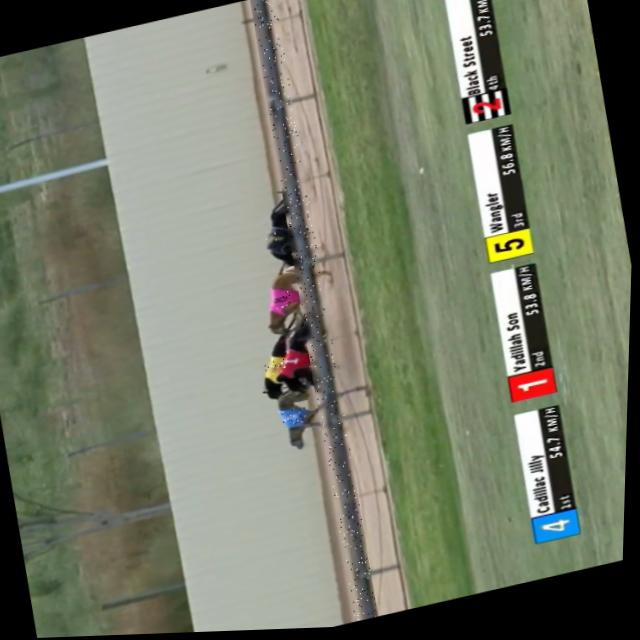dog_eight: (271, 291, 298, 311)
dog_five: (267, 359, 289, 378)
dog_four: (283, 408, 311, 430)
dog_one: (281, 351, 310, 377)
dog_seven: (266, 230, 295, 251)
rail: (251, 0, 382, 623)
